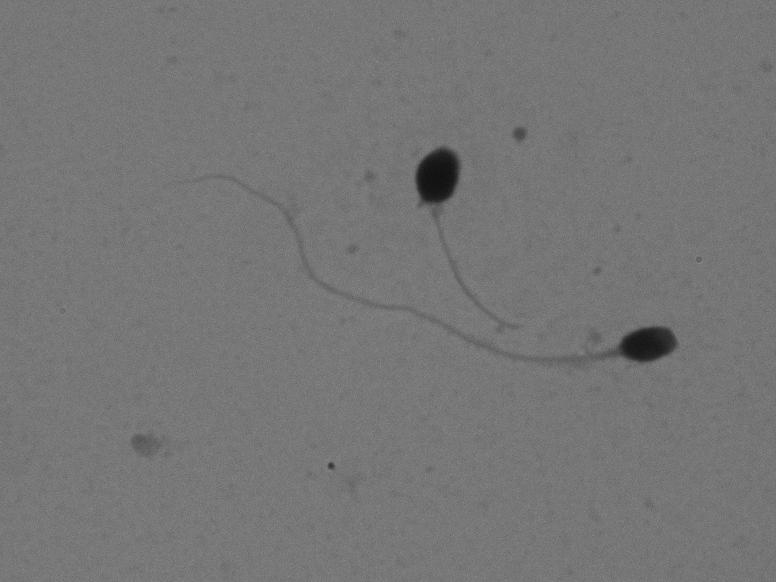Abnormal: (376, 125, 560, 340)
Normal: (148, 122, 715, 388)
